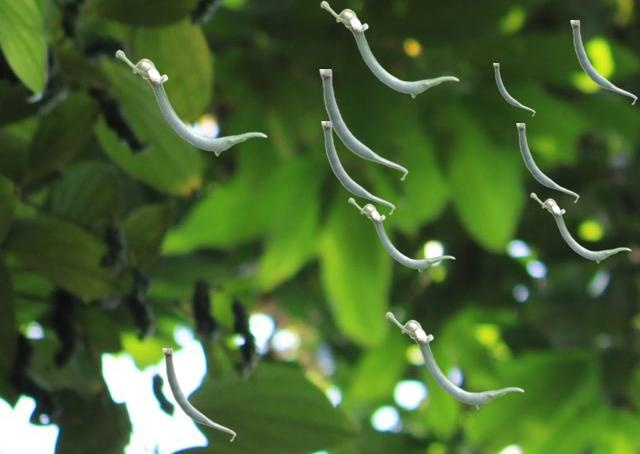french_bean: (115, 49, 266, 155), (385, 311, 523, 408), (320, 0, 458, 97), (319, 69, 407, 180), (348, 197, 454, 271), (530, 192, 630, 262), (321, 121, 394, 214), (162, 348, 235, 441), (570, 20, 636, 104), (516, 123, 578, 202), (493, 63, 534, 115)
